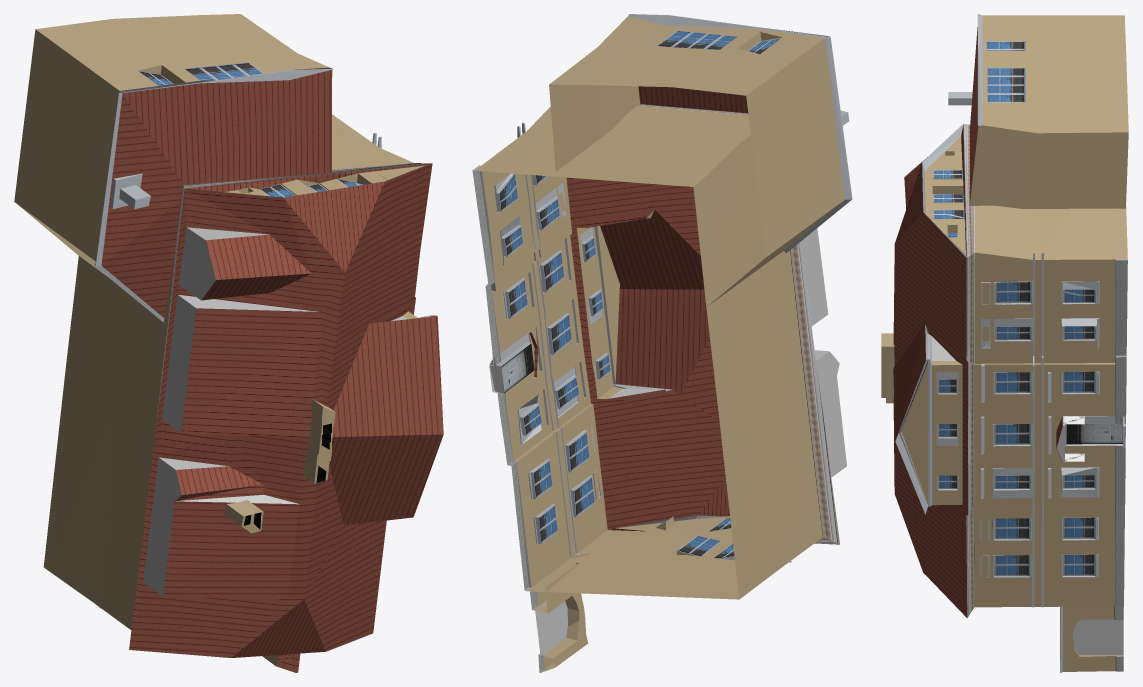
File: Uus_29_1-origo.obj
The picture shows the model from 3 angles, left to right: view 1: azimuth 30°, elevation 25°; view 2: azimuth 150°, elevation 25°; view 3: azimuth 270°, elevation 25°; orthographic projection. The views are drawn at different scales.
Visible parts, largest first — view 1: Uus29_1; view 2: Uus29_1; view 3: Uus29_1.
Boxes of the visible parts, left/top/right/bottom form: Uus29_1: left=14, top=14, right=443, bottom=672; Uus29_1: left=472, top=14, right=852, bottom=672; Uus29_1: left=881, top=14, right=1128, bottom=672.
Size of the model in its own units: 18.56 by 36 by 14.29.
